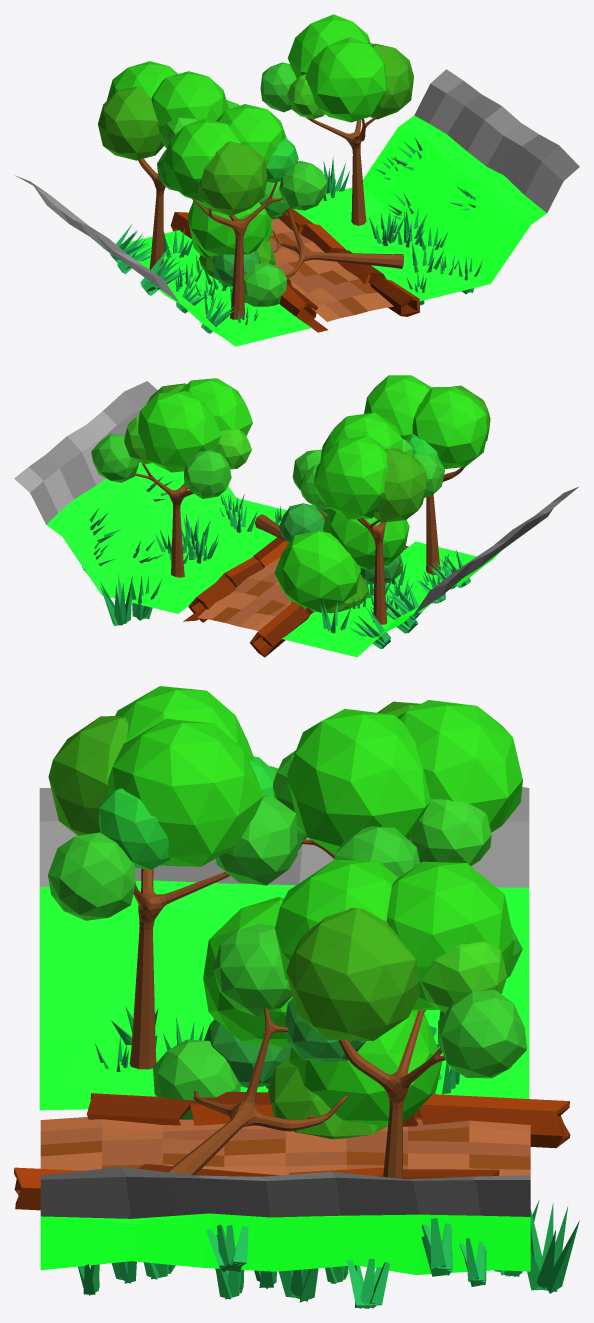
Rendered from maps1.fbx.
The picture shows the model from 3 angles, top to bottom: view 1: azimuth 30°, elevation 25°; view 2: azimuth 150°, elevation 25°; view 3: azimuth 270°, elevation 25°; orthographic projection. The views are drawn at different scales.
Parts seen in each view (by area): view 1: Enbironment, Obstacle, Road; view 2: Enbironment, Obstacle, Road; view 3: Enbironment, Obstacle, Road.
Part boxes in pixels (x1,y1,x2,y2): Enbironment: (15, 14, 579, 346); Obstacle: (187, 181, 403, 306); Road: (269, 219, 393, 321); Enbironment: (14, 375, 579, 657); Obstacle: (254, 503, 409, 613); Road: (197, 557, 291, 631); Enbironment: (14, 686, 579, 1308); Obstacle: (153, 897, 442, 1175); Road: (40, 1117, 530, 1175).
Size of the model in its own units: 3775 by 1868 by 2311.
